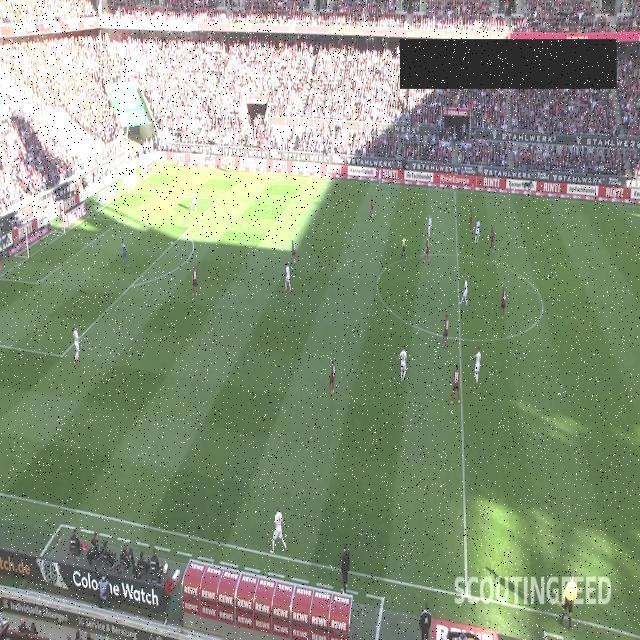Ball: (170, 239, 174, 247)
Corner: (152, 150, 168, 174)
GoalKeeper: (120, 238, 130, 268)
Referee: (560, 572, 578, 630), (399, 234, 406, 262), (226, 153, 232, 172)
TEAM 1: (450, 364, 460, 404), (442, 314, 450, 348), (329, 360, 336, 394), (499, 286, 506, 320), (192, 266, 198, 296), (424, 238, 431, 262), (468, 210, 474, 232), (490, 226, 494, 254), (292, 239, 296, 265)
TEAM 2: (270, 506, 288, 554), (471, 346, 482, 386), (396, 344, 407, 382), (73, 326, 80, 364), (459, 278, 468, 306), (284, 262, 292, 292), (474, 218, 481, 244), (190, 190, 198, 212), (370, 195, 374, 218), (428, 215, 432, 238)
